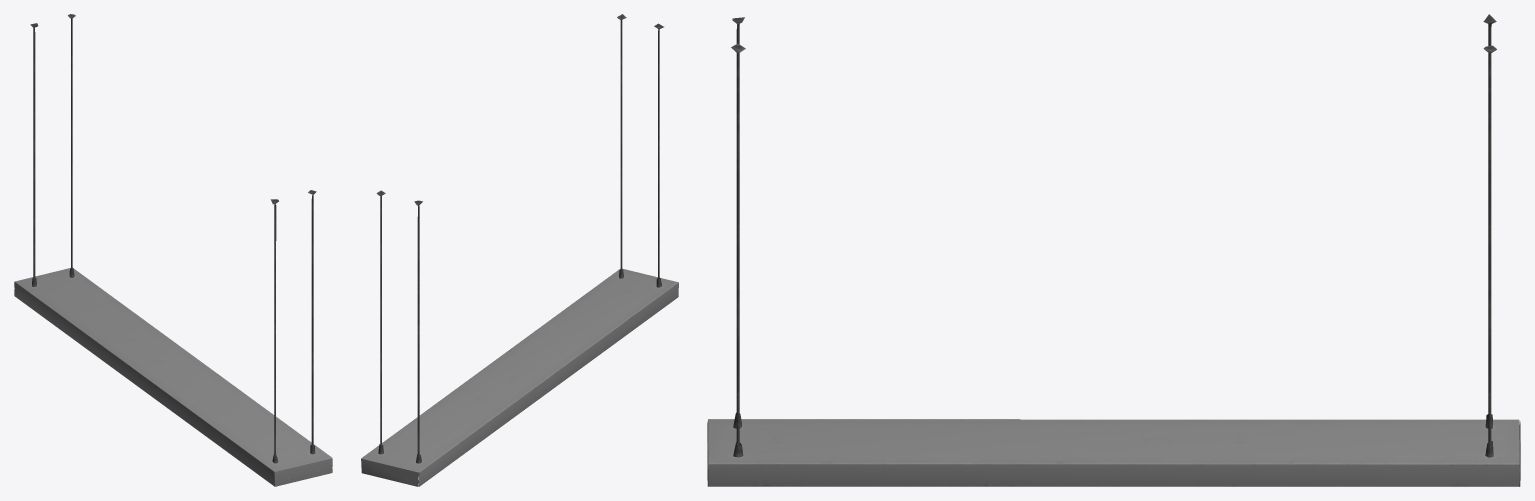
The model's file is SM_Lamp01.fbx.
3 renders of one model, left to right at view 1: azimuth 30°, elevation 25°; view 2: azimuth 150°, elevation 25°; view 3: azimuth 270°, elevation 25°, orthographic. The views are drawn at different scales.
Parts seen in each view (by area): view 1: SM_Lamp01_LOD0; view 2: SM_Lamp01_LOD0; view 3: SM_Lamp01_LOD0.
Boxes of the visible parts, x1=… form: SM_Lamp01_LOD0: x1=14, y1=14, x2=332, y2=486; SM_Lamp01_LOD0: x1=361, y1=14, x2=678, y2=486; SM_Lamp01_LOD0: x1=707, y1=14, x2=1520, y2=486.
Bounding box in the file's own units: 44.45 × 342 × 201.
